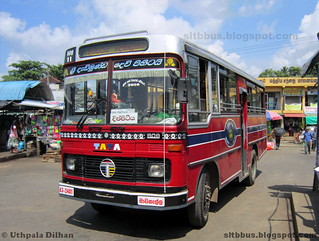bus: (57, 30, 268, 228)
